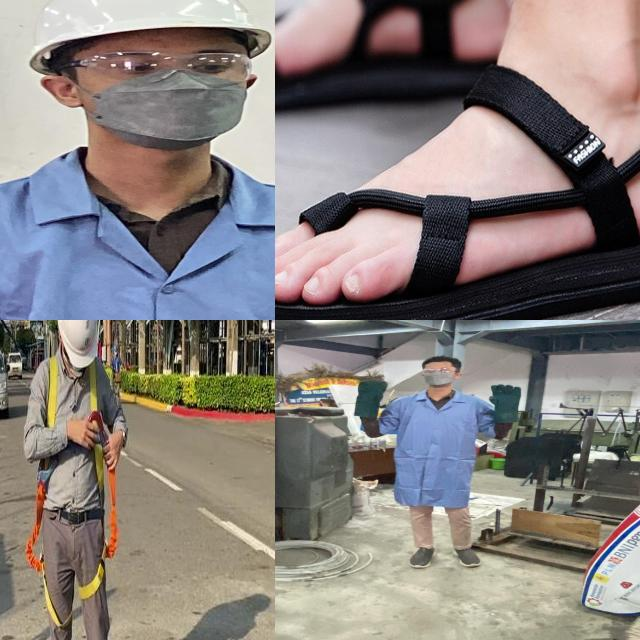Harness: (26, 480, 72, 630), (79, 470, 118, 602)
Sandals: (275, 40, 640, 320)
face_mask: (71, 49, 251, 146), (416, 366, 458, 386)
glasses: (51, 46, 261, 86), (418, 364, 460, 377)
hand_glove: (485, 383, 526, 408), (353, 377, 392, 398)
head_helmet: (21, 0, 275, 55)
head_nohelmet: (417, 355, 462, 368)
person: (0, 0, 275, 320), (343, 355, 525, 571)
shoes: (402, 540, 439, 570), (446, 544, 484, 568)
